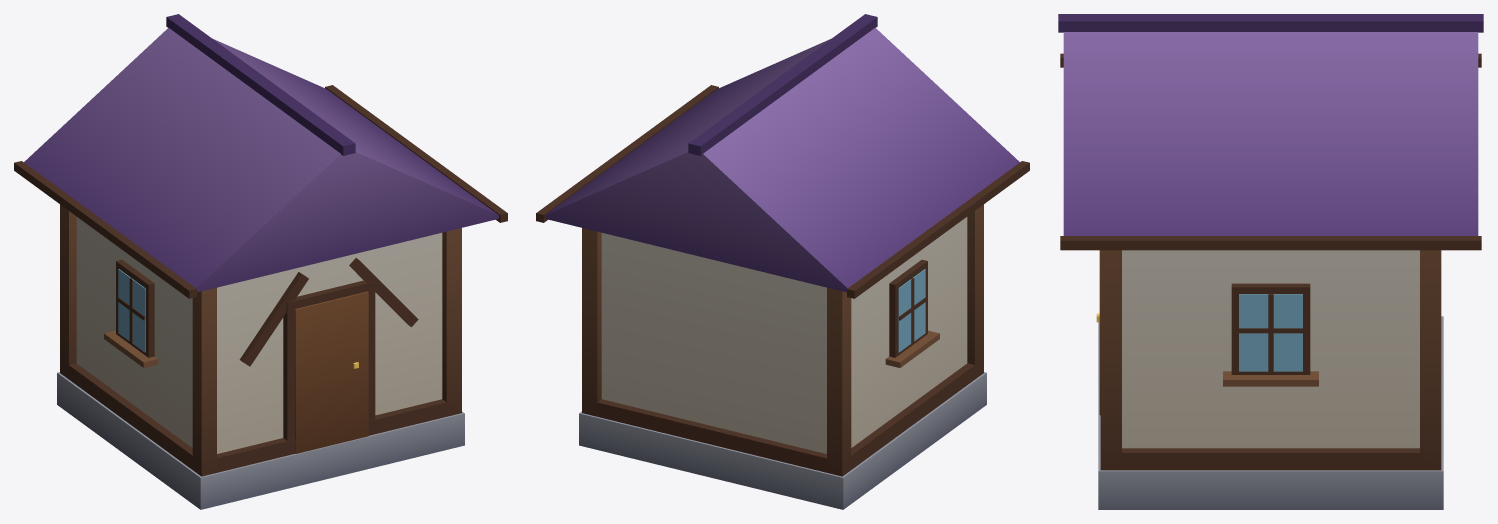
The model's file is house_hut.glb.
3 renders of one model, left to right at view 1: azimuth 30°, elevation 25°; view 2: azimuth 150°, elevation 25°; view 3: azimuth 270°, elevation 25°, orthographic. The views are drawn at different scales.
Parts seen in each view (by area): view 1: house_hut; view 2: house_hut; view 3: house_hut.
Boxes of the visible parts, box(x1,y1,x2,y2) form: house_hut: box(14, 14, 507, 509); house_hut: box(536, 14, 1029, 509); house_hut: box(1058, 14, 1483, 509).
Bounding box in the file's own units: 4.16 × 4.3 × 4.
